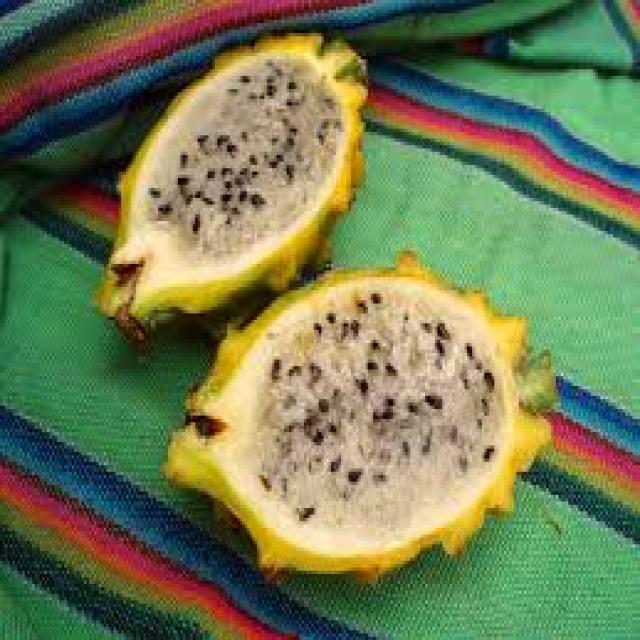organic waste: (158, 267, 561, 584), (99, 26, 368, 340)
